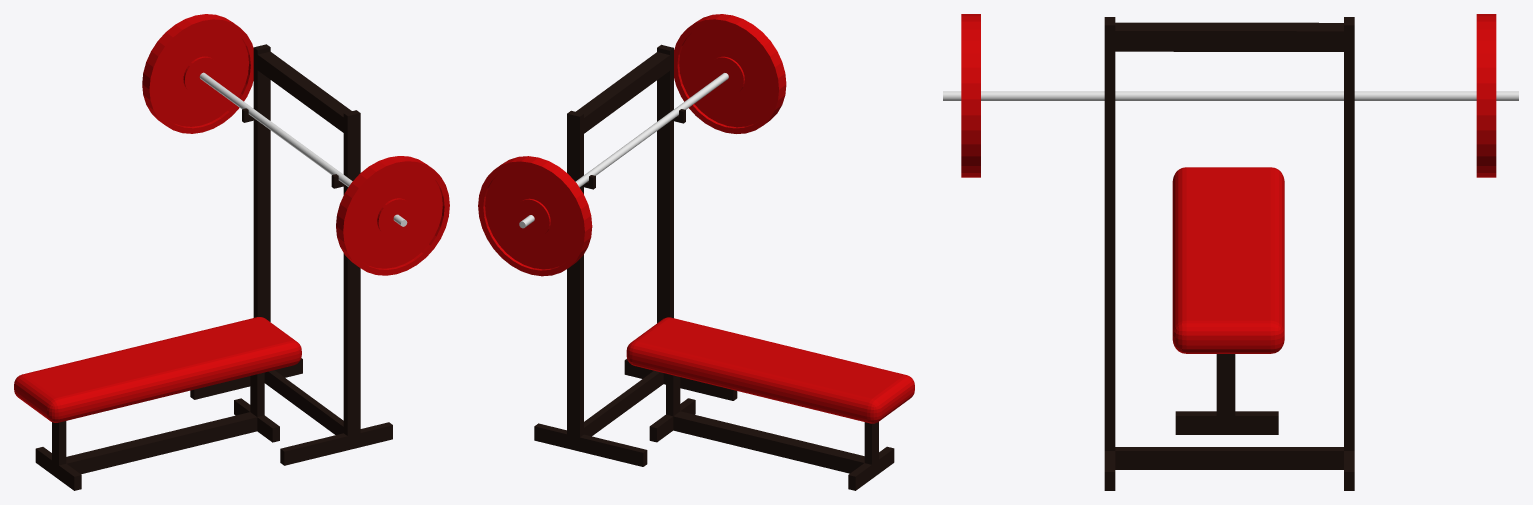
Rendered from Stand.fbx.
The picture shows the model from 3 angles, left to right: view 1: azimuth 30°, elevation 25°; view 2: azimuth 150°, elevation 25°; view 3: azimuth 270°, elevation 25°; orthographic projection. The views are drawn at different scales.
Visible parts, largest first — view 1: Leg; view 2: Leg; view 3: Leg.
Boxes of the visible parts, <box> form: Leg: <box>14,14,449,490</box>; Leg: <box>478,14,914,490</box>; Leg: <box>943,14,1518,490</box>.
Size of the model in its own units: 148 by 148 by 174.
